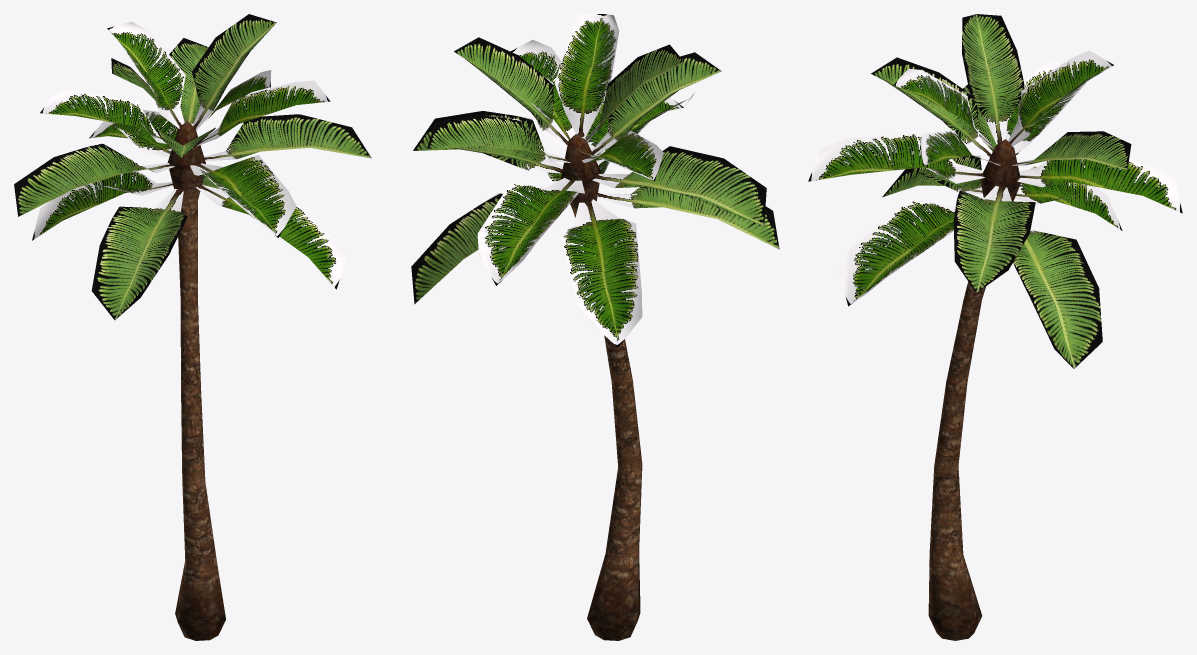
File: AlphaPalm3.gltf
3 renders of one model, left to right at view 1: azimuth 30°, elevation 25°; view 2: azimuth 150°, elevation 25°; view 3: azimuth 270°, elevation 25°, orthographic. The views are drawn at different scales.
Visible parts, largest first — view 1: Mesh04, Palm; view 2: Mesh04, Palm; view 3: Mesh04, Palm.
Part boxes in pixels (x1,y1,x2,y2): Mesh04: [14, 14, 371, 320]; Palm: [167, 121, 225, 640]; Mesh04: [411, 14, 779, 347]; Palm: [560, 134, 642, 640]; Mesh04: [808, 14, 1182, 368]; Palm: [928, 139, 1021, 640].
Size of the model in its own units: 9 by 14.42 by 8.34.
Materials: 2 (2 with a texture image).
